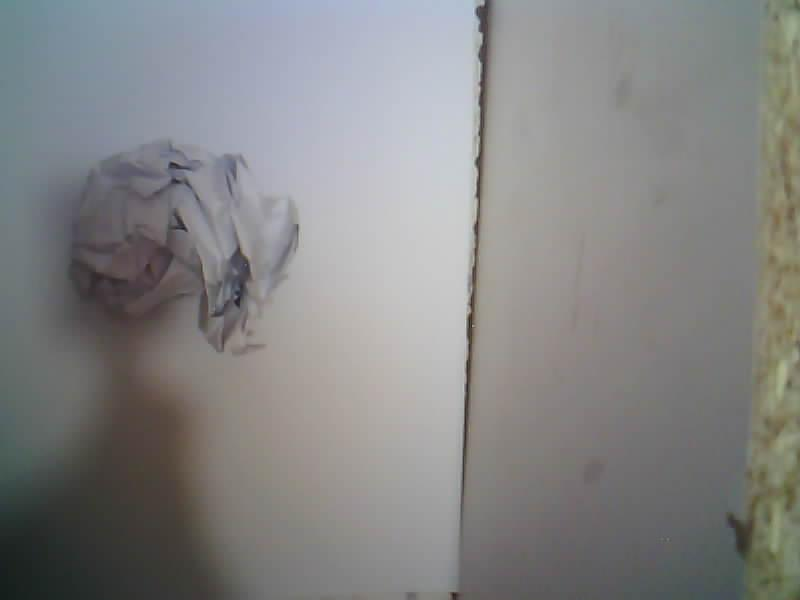biodegradable: (71, 139, 298, 353)
